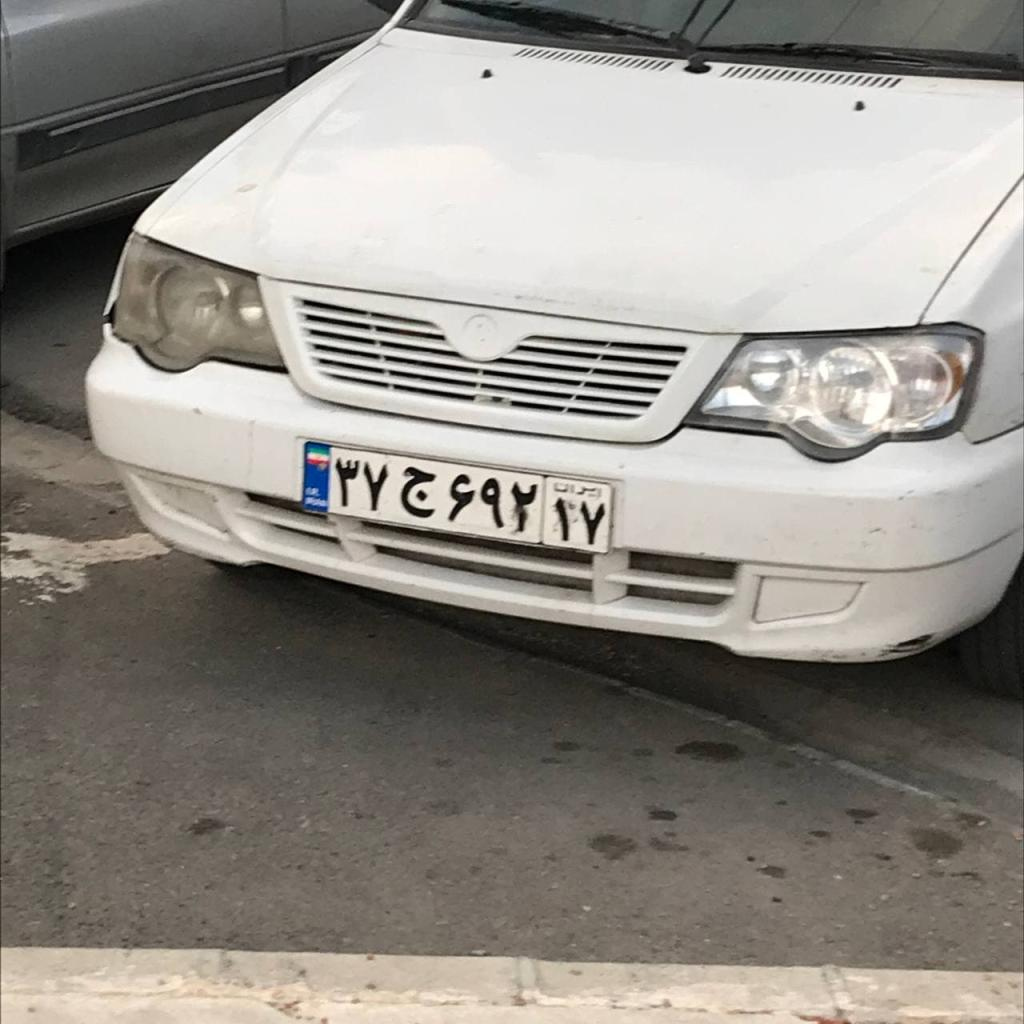Plates: (300, 437, 614, 555)
